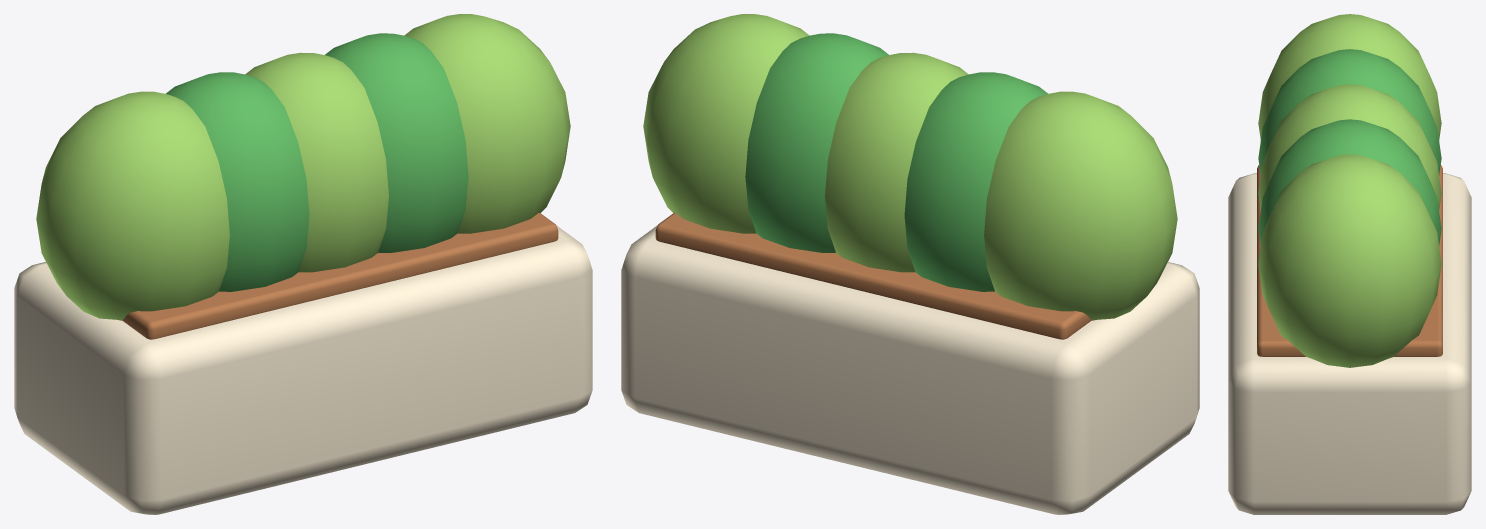
Rendered from Planter.fbx.
The picture shows the model from 3 angles, left to right: view 1: azimuth 30°, elevation 25°; view 2: azimuth 150°, elevation 25°; view 3: azimuth 270°, elevation 25°; orthographic projection. The views are drawn at different scales.
Parts seen in each view (by area): view 1: GEO-Planter, GEO-Bush, GEO-Bush.004, GEO-Bush.002, GEO-Bush.001, GEO-Bush.003, GEO-Soil; view 2: GEO-Planter, GEO-Bush, GEO-Bush.004, GEO-Bush.002, GEO-Bush.001, GEO-Bush.003, GEO-Soil; view 3: GEO-Planter, GEO-Bush.004, GEO-Bush.001, GEO-Bush, GEO-Bush.003, GEO-Bush.002, GEO-Soil.
Part boxes in pixels (x1,y1,x2,y2): GEO-Planter: (14, 225, 592, 514); GEO-Bush: (36, 91, 229, 320); GEO-Bush.004: (404, 14, 570, 233); GEO-Bush.002: (245, 52, 388, 272); GEO-Bush.001: (166, 72, 309, 291); GEO-Bush.003: (325, 33, 468, 252); GEO-Soil: (122, 213, 558, 339); GEO-Planter: (621, 225, 1199, 514); GEO-Bush: (984, 91, 1177, 320); GEO-Bush.004: (643, 14, 809, 233); GEO-Bush.002: (825, 52, 968, 272); GEO-Bush.001: (904, 72, 1047, 291); GEO-Bush.003: (745, 33, 888, 252); GEO-Soil: (655, 213, 1091, 339); GEO-Planter: (1228, 173, 1471, 514); GEO-Bush.004: (1258, 154, 1441, 367); GEO-Bush.001: (1258, 49, 1441, 175); GEO-Bush: (1258, 14, 1441, 140); GEO-Bush.003: (1258, 119, 1441, 245); GEO-Bush.002: (1258, 84, 1441, 210); GEO-Soil: (1257, 165, 1442, 356).
Bounding box in the file's own units: 1.86 × 1.27 × 0.85.
